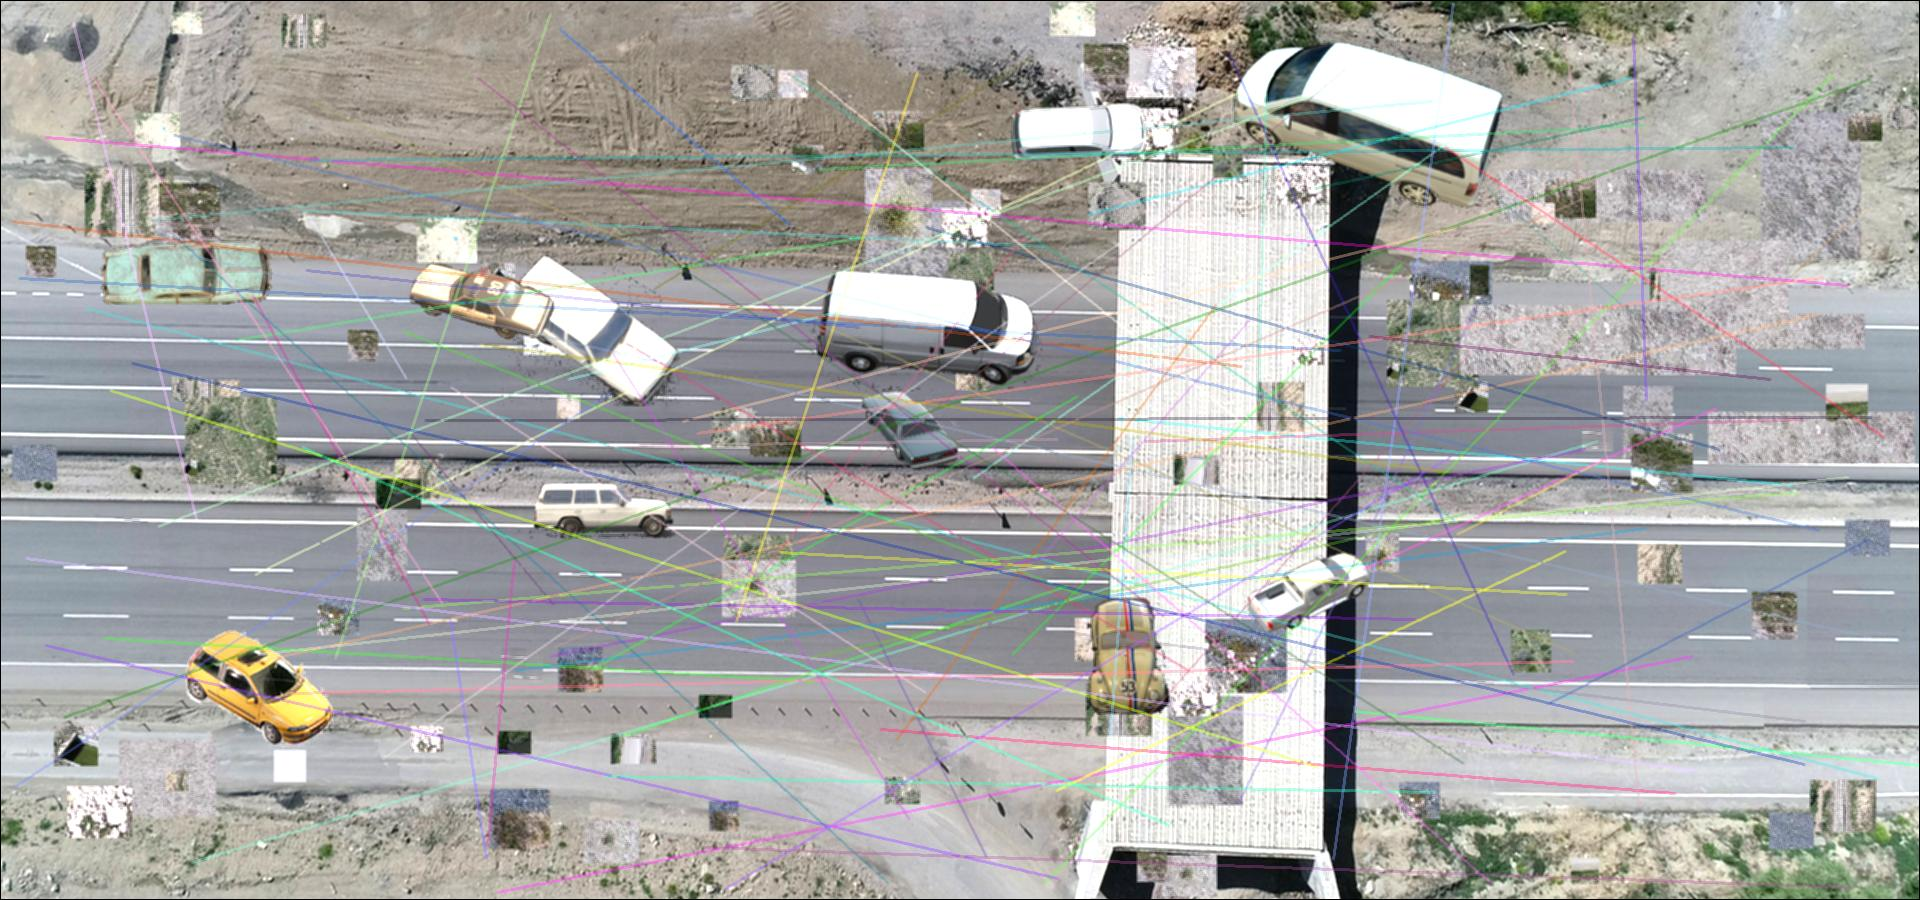arac: (1233, 40, 1502, 216), (808, 269, 1044, 391), (500, 257, 680, 407), (186, 628, 333, 748), (410, 257, 555, 340), (94, 238, 274, 304), (1248, 550, 1369, 632), (1087, 598, 1171, 714), (1008, 96, 1149, 160), (529, 481, 675, 538), (860, 389, 959, 470)
